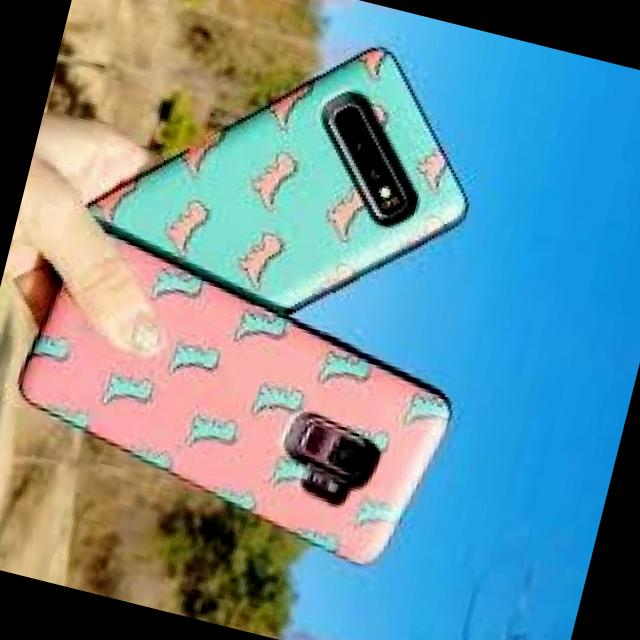lens_back: (322, 429, 373, 481), (359, 156, 393, 190)
phone: (50, 0, 499, 395), (0, 225, 473, 581)
